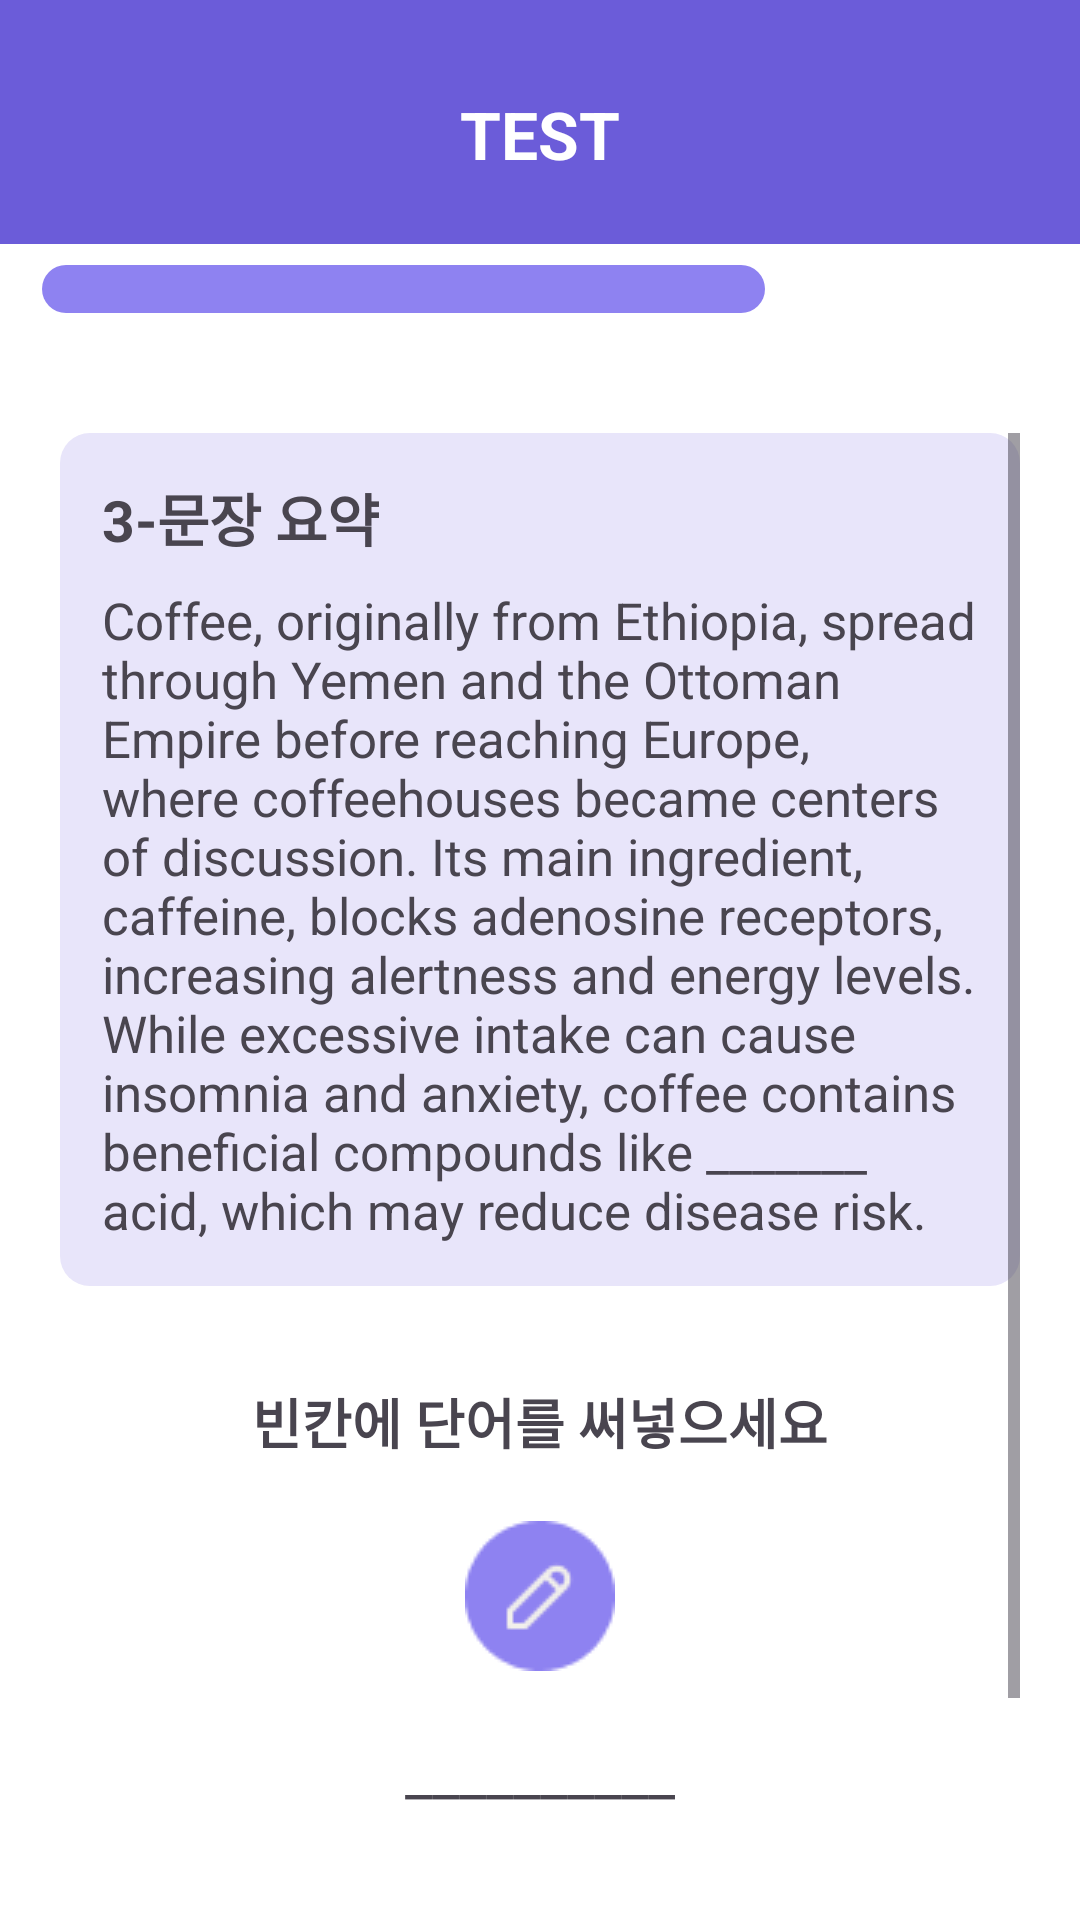

Named icons in this screenshot (1080px×1920px) and their centers, (x,y):
write: (540,1596)
